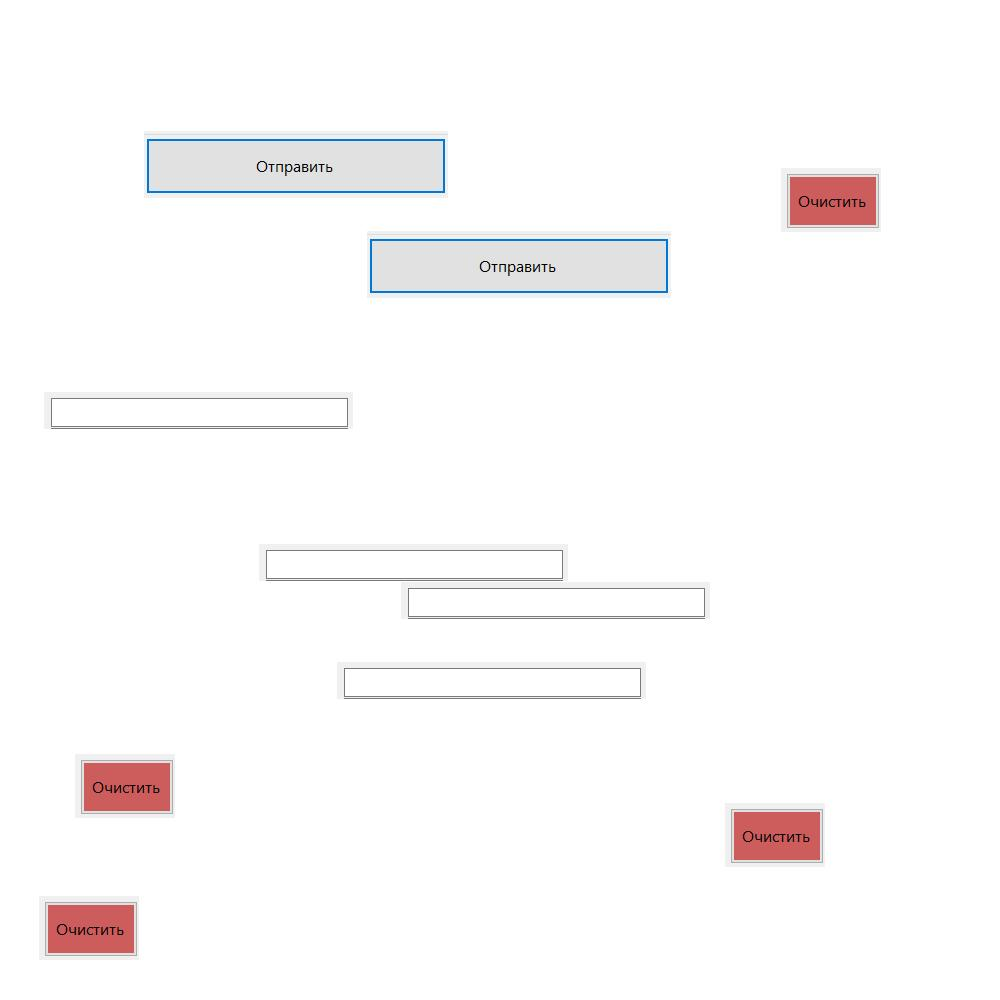Button: (367, 231, 671, 298), (144, 131, 448, 198), (39, 896, 139, 960), (725, 803, 825, 867), (781, 168, 881, 232), (75, 754, 175, 818)
EditText-: (44, 392, 353, 429), (259, 544, 568, 581), (337, 662, 646, 699), (401, 582, 710, 619)
